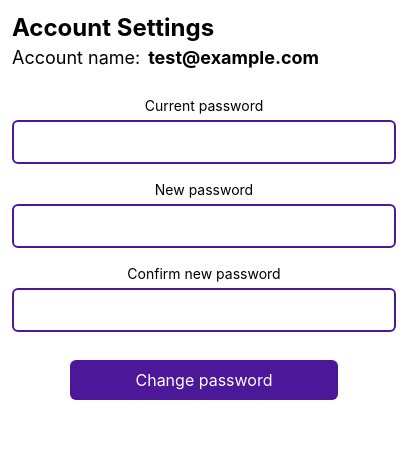
it: SettingsPage password change › displays Firebase error auth/unknown without reporting success
Type "oldpassword" into the password field labelled "Current password" at x=204, y=142, box [12,120,396,164]
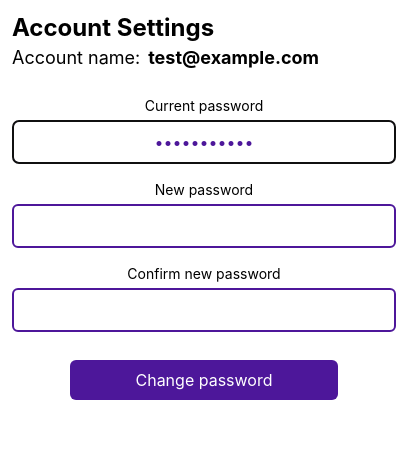
Type "newpassword" into the password field labelled "New password" at x=204, y=226, box [12,204,396,248]
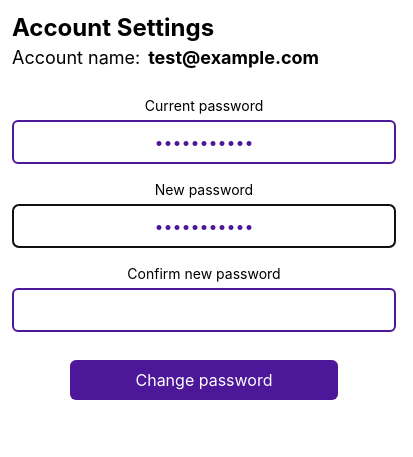
Type "newpassword" into the password field labelled "Confirm new password" at x=204, y=310, box [12,288,396,332]
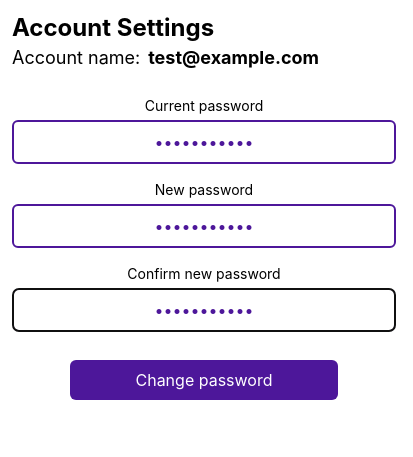
Click the button "Change password" at x=204, y=380, box [70,360,338,400]
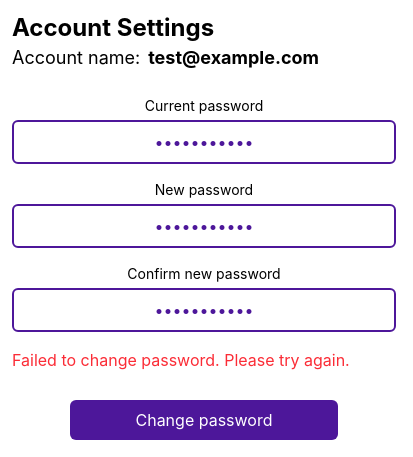
Check: the message shows "Failed to change password", box [12,350,350,370]
